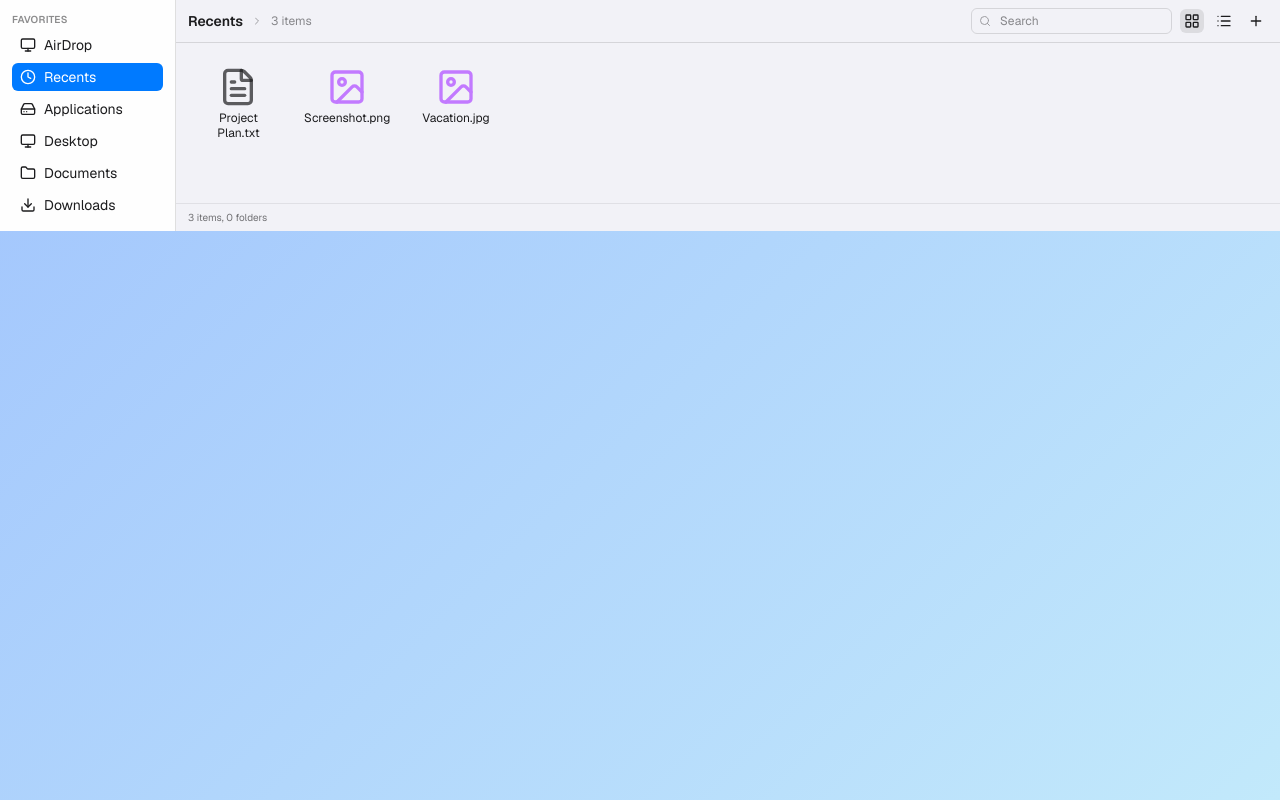
Scenario: Finder › navigates to a different folder and updates the grid
Click the button with test id "finder-location-documents": (88, 173) [12,159,163,187]
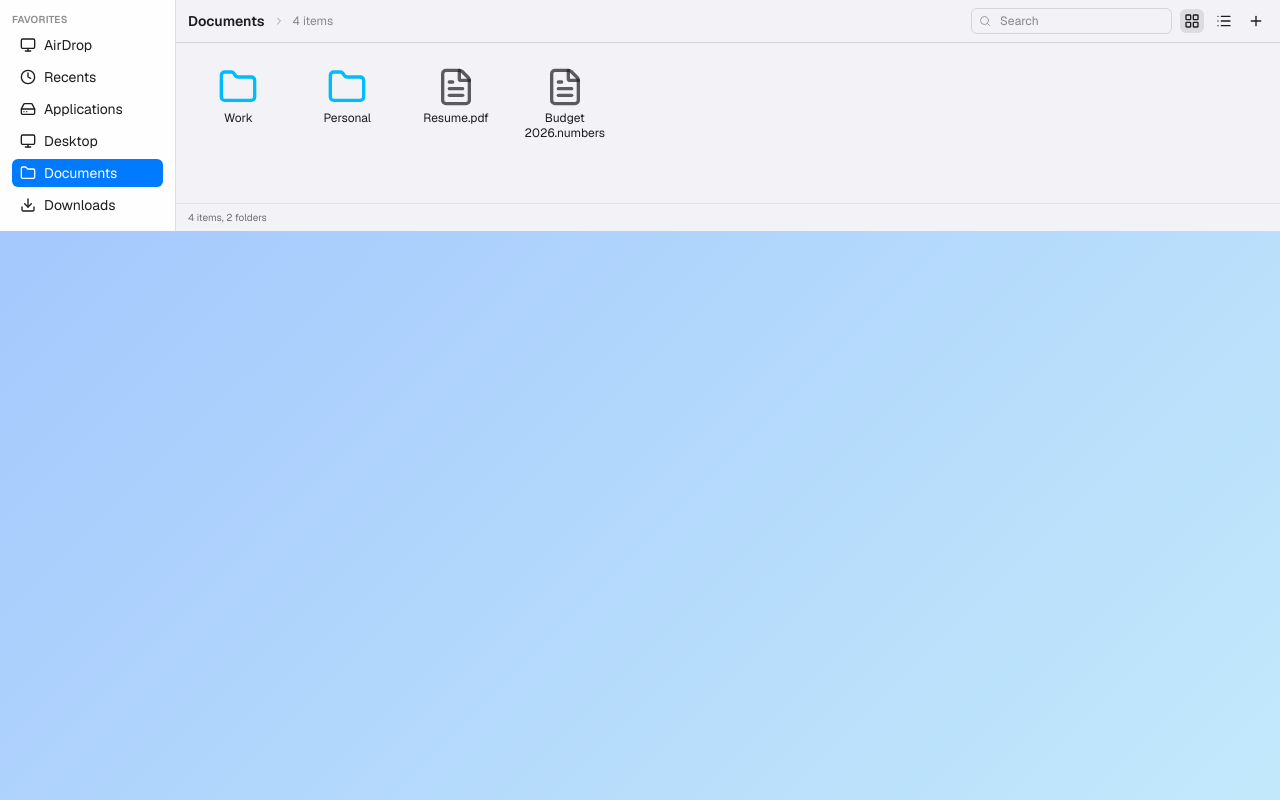
Check: the text "Resume.pdf" is shown, box [423,111,489,126]
Check: the text "Budget 2026.numbers" is shown, box [525,111,605,141]
Check: the text with test id "finder-item-count" reads "4 items", box [292,13,333,29]
